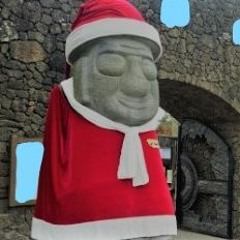Stone Statue: (41, 1, 181, 240)
